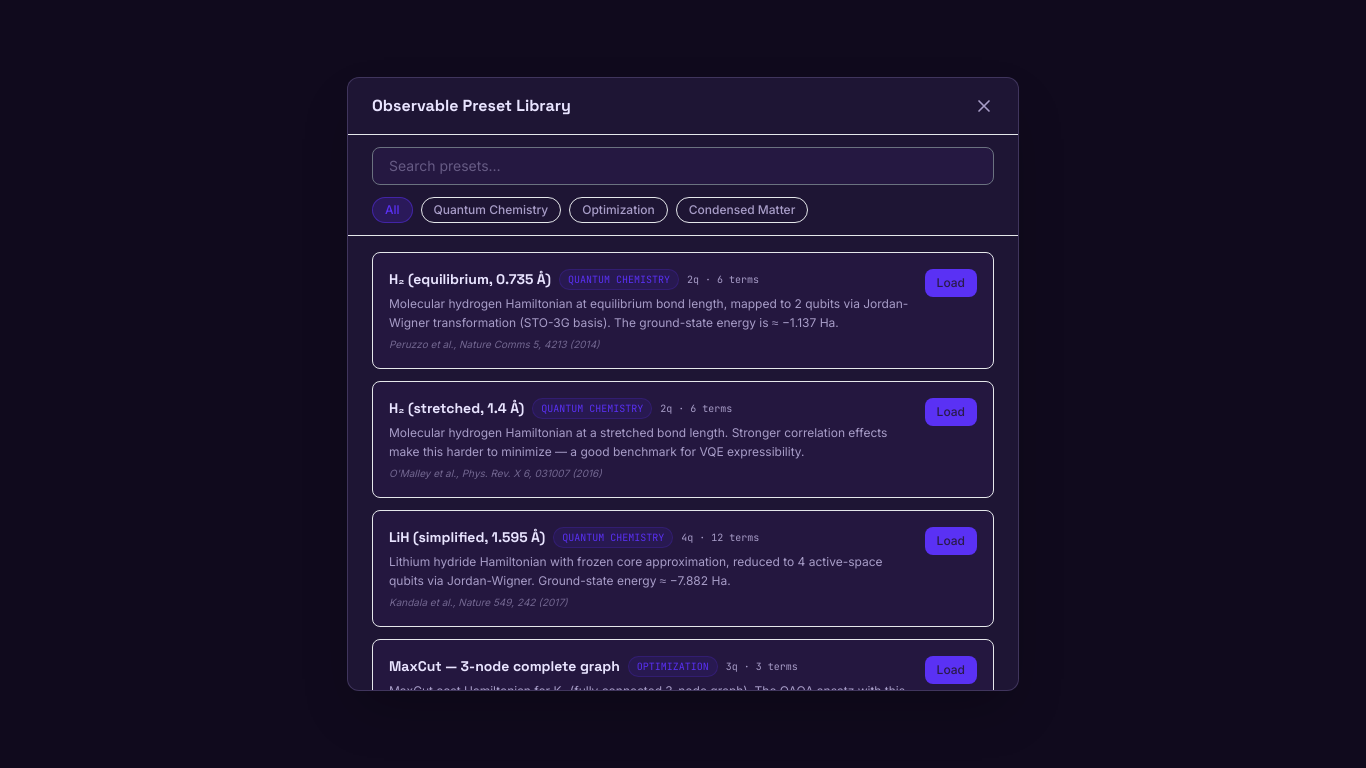
Scenario: ObservablePresetModal › filters by category
Click the button "Optimization" at (618,210), box [569,197,668,223]
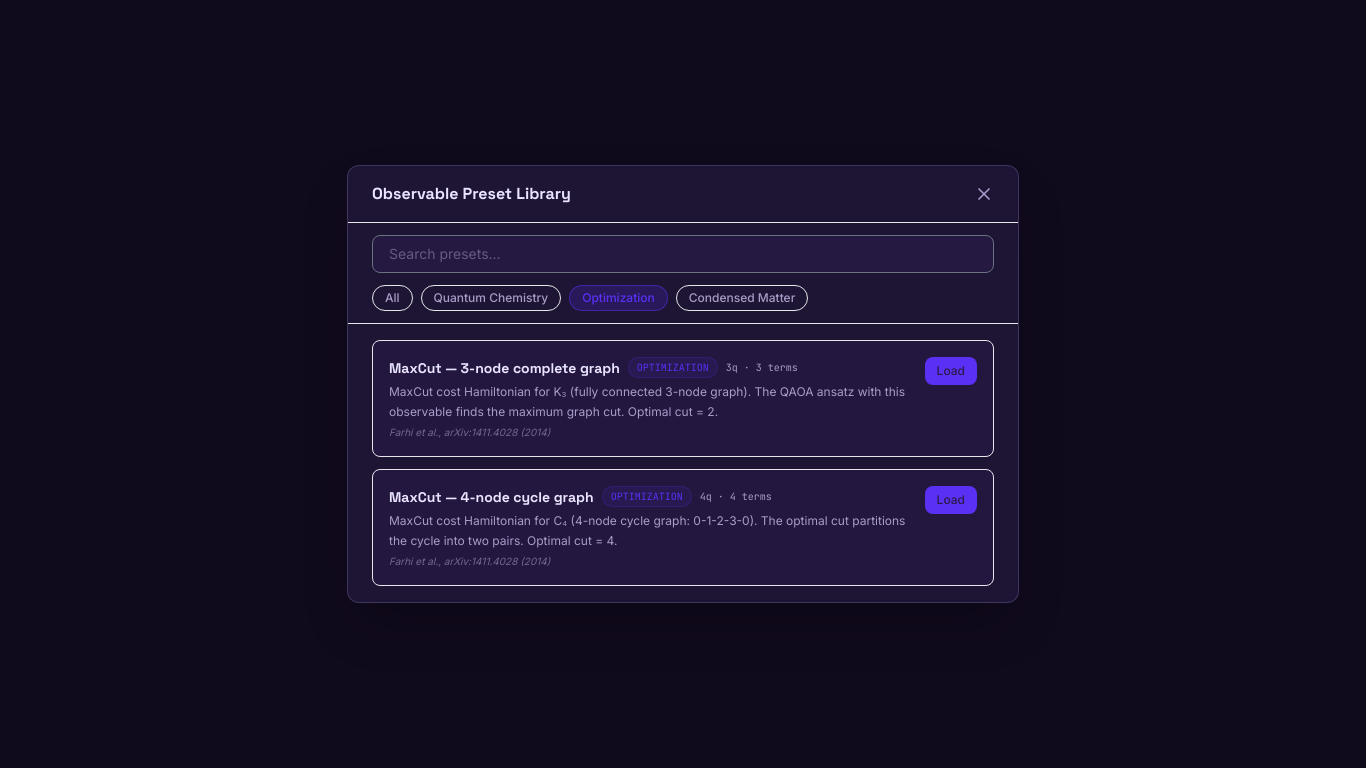
Expected: the text "MaxCut — 4-node cycle graph" is shown, [389,486,594,506]
Expected: the button "H₂ (equilibrium, 0.735 Å)" is gone
Expected: the button "H₂ (stretched, 1.4 Å)" is gone
